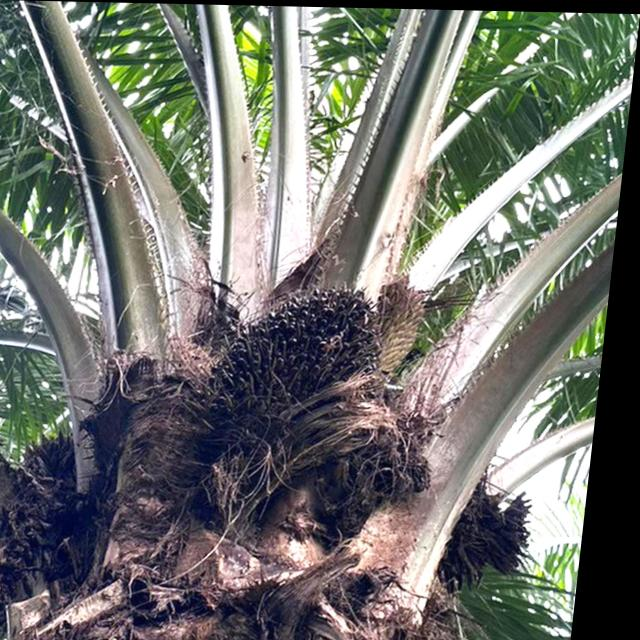unripe: (198, 276, 404, 441)
